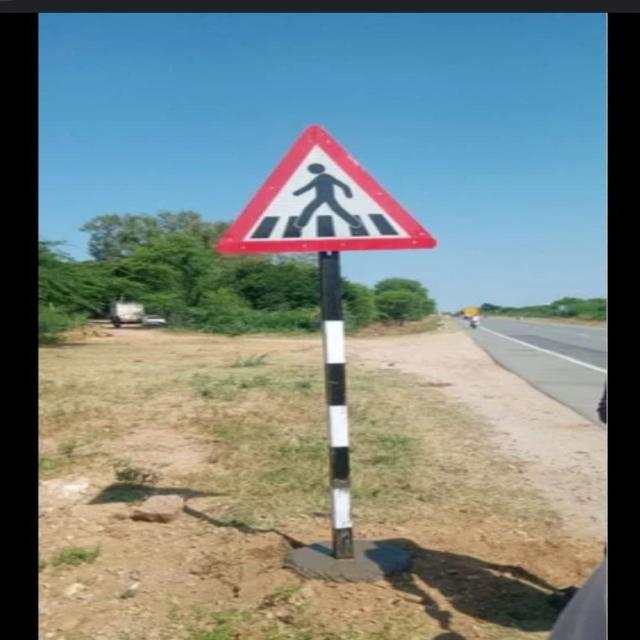Pedestrain_crossing: (223, 126, 430, 251)
